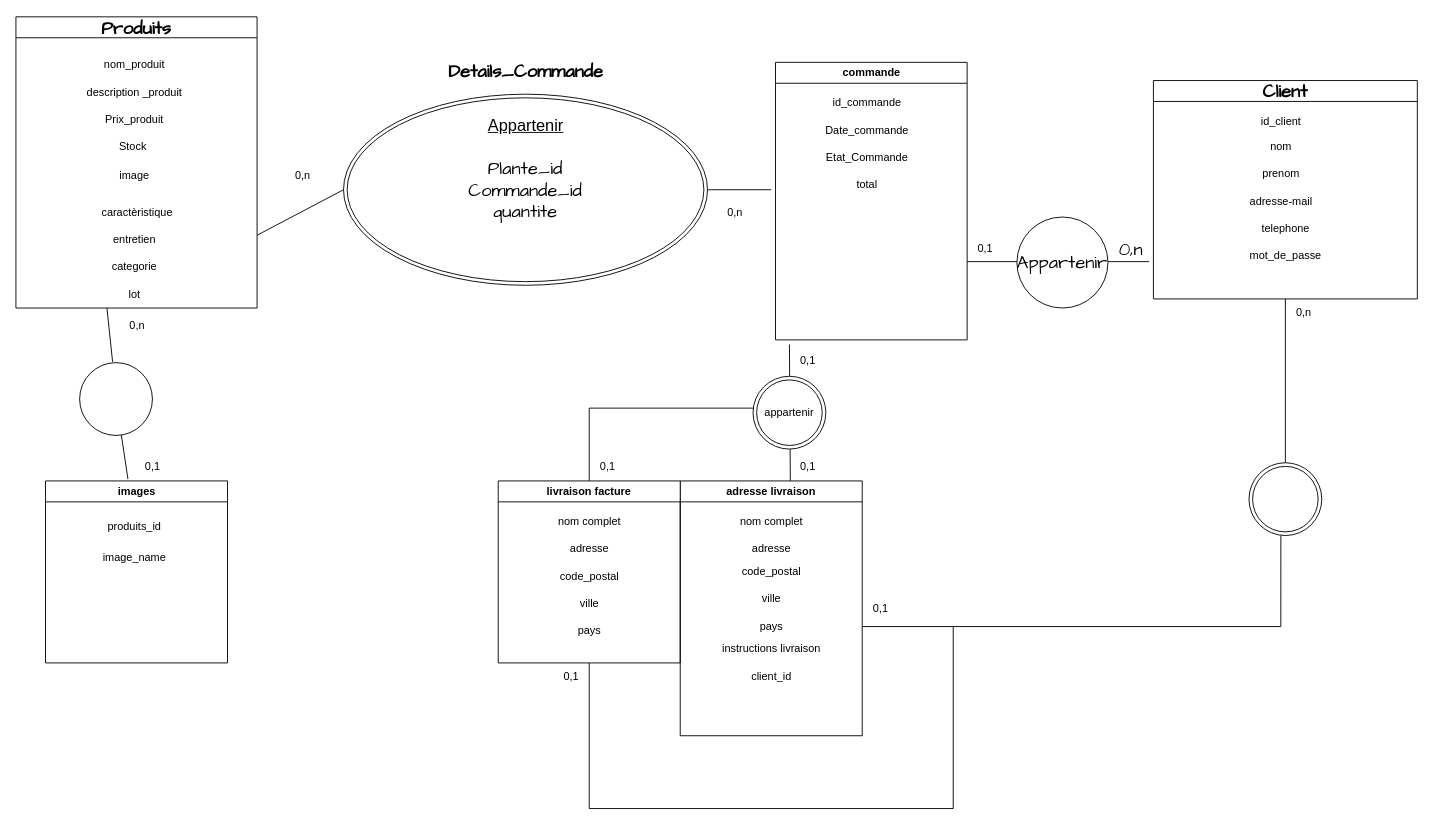
The diagram is 1433 pixels wide and 825 high, and some of its shapes have lost their labels. The centre of each missing label's shape, as x and y in pixels:
Contenir: the point at 1285,499
posseder / appartenir: the point at 115,398
